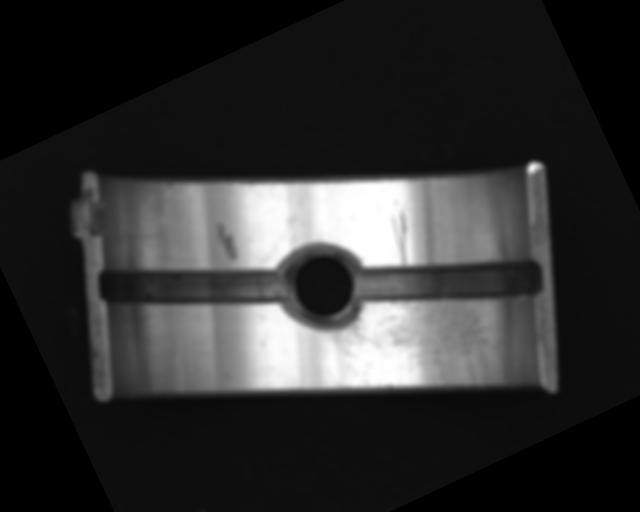bruise: (207, 217, 244, 265)
gap: (91, 200, 298, 370), (353, 203, 549, 360)
hole: (268, 234, 376, 340)
nick: (381, 209, 426, 268)
scratch: (312, 260, 519, 452)
